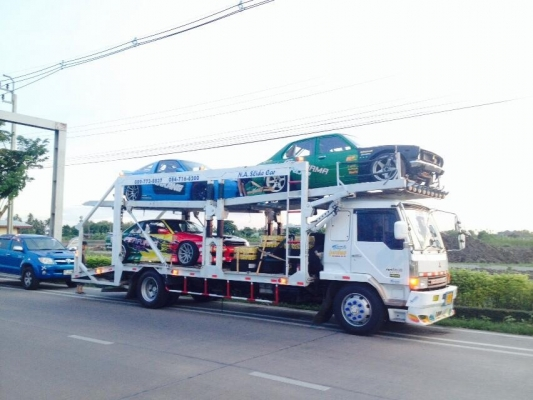truck: (69, 129, 459, 339)
